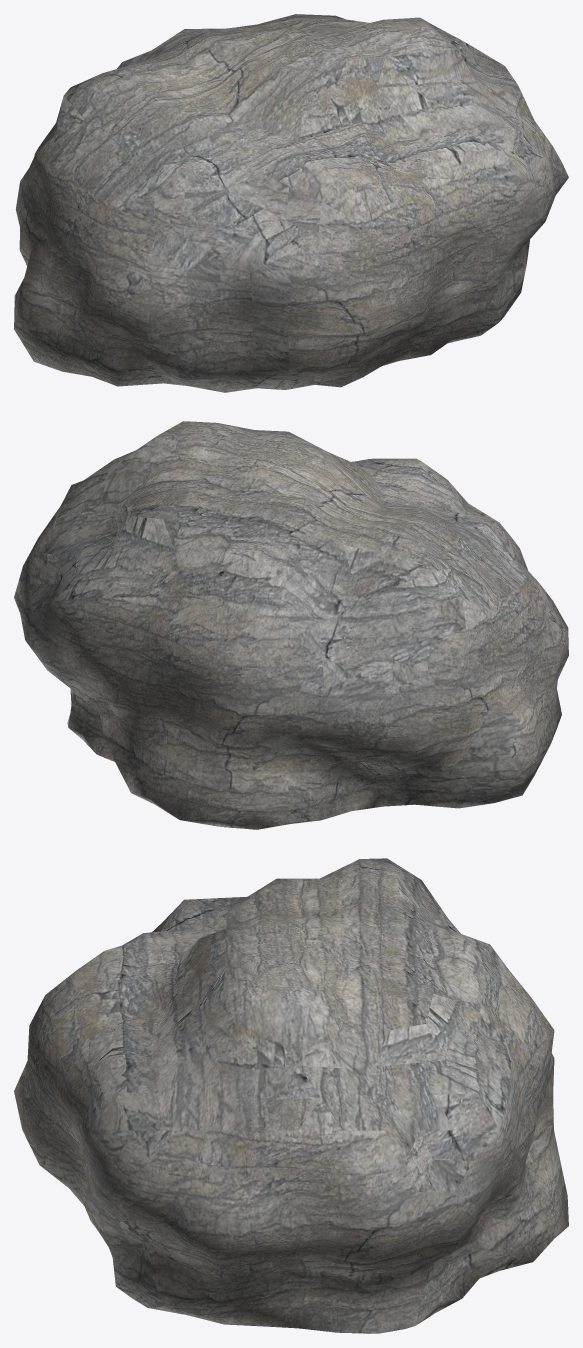
Rendered from rock_boulder.glb.
3 views of the same model, one above another, from view 1: azimuth 30°, elevation 25°; view 2: azimuth 150°, elevation 25°; view 3: azimuth 270°, elevation 25° (orthographic). The views are drawn at different scales.
Parts seen in each view (by area): view 1: rock_boulder; view 2: rock_boulder; view 3: rock_boulder.
Boxes of the visible parts, box(x1,y1,x2,y2) form: rock_boulder: box(14, 14, 568, 392); rock_boulder: box(14, 421, 568, 829); rock_boulder: box(14, 858, 568, 1333).
Bounding box in the file's own units: 2.54 × 1.32 × 2.12.
1 material, 1 textured.
